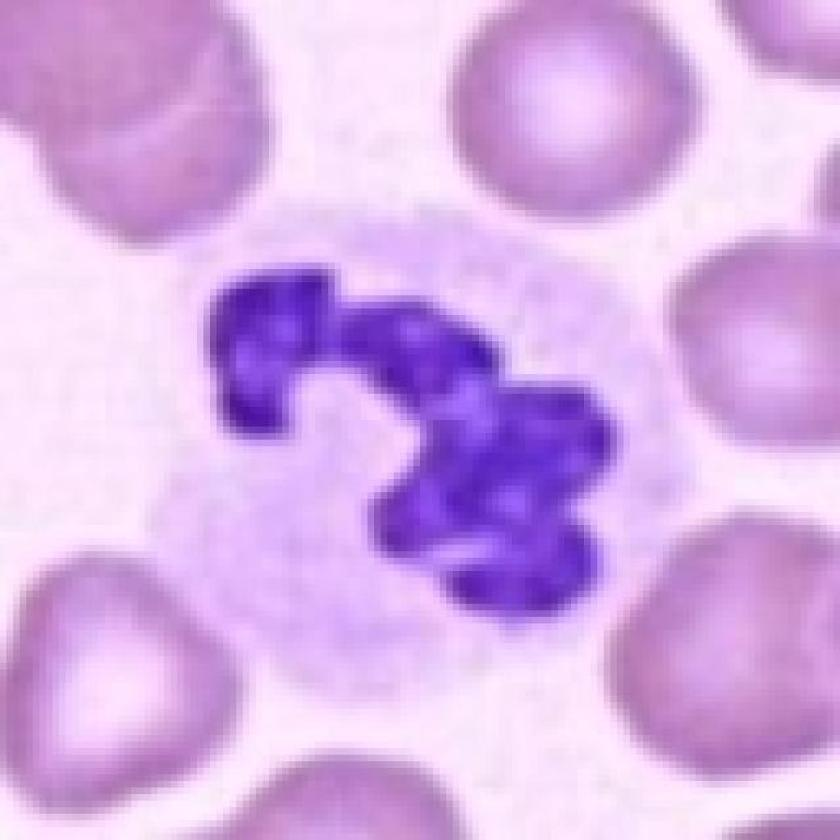neutrophil: (122, 195, 735, 685)
